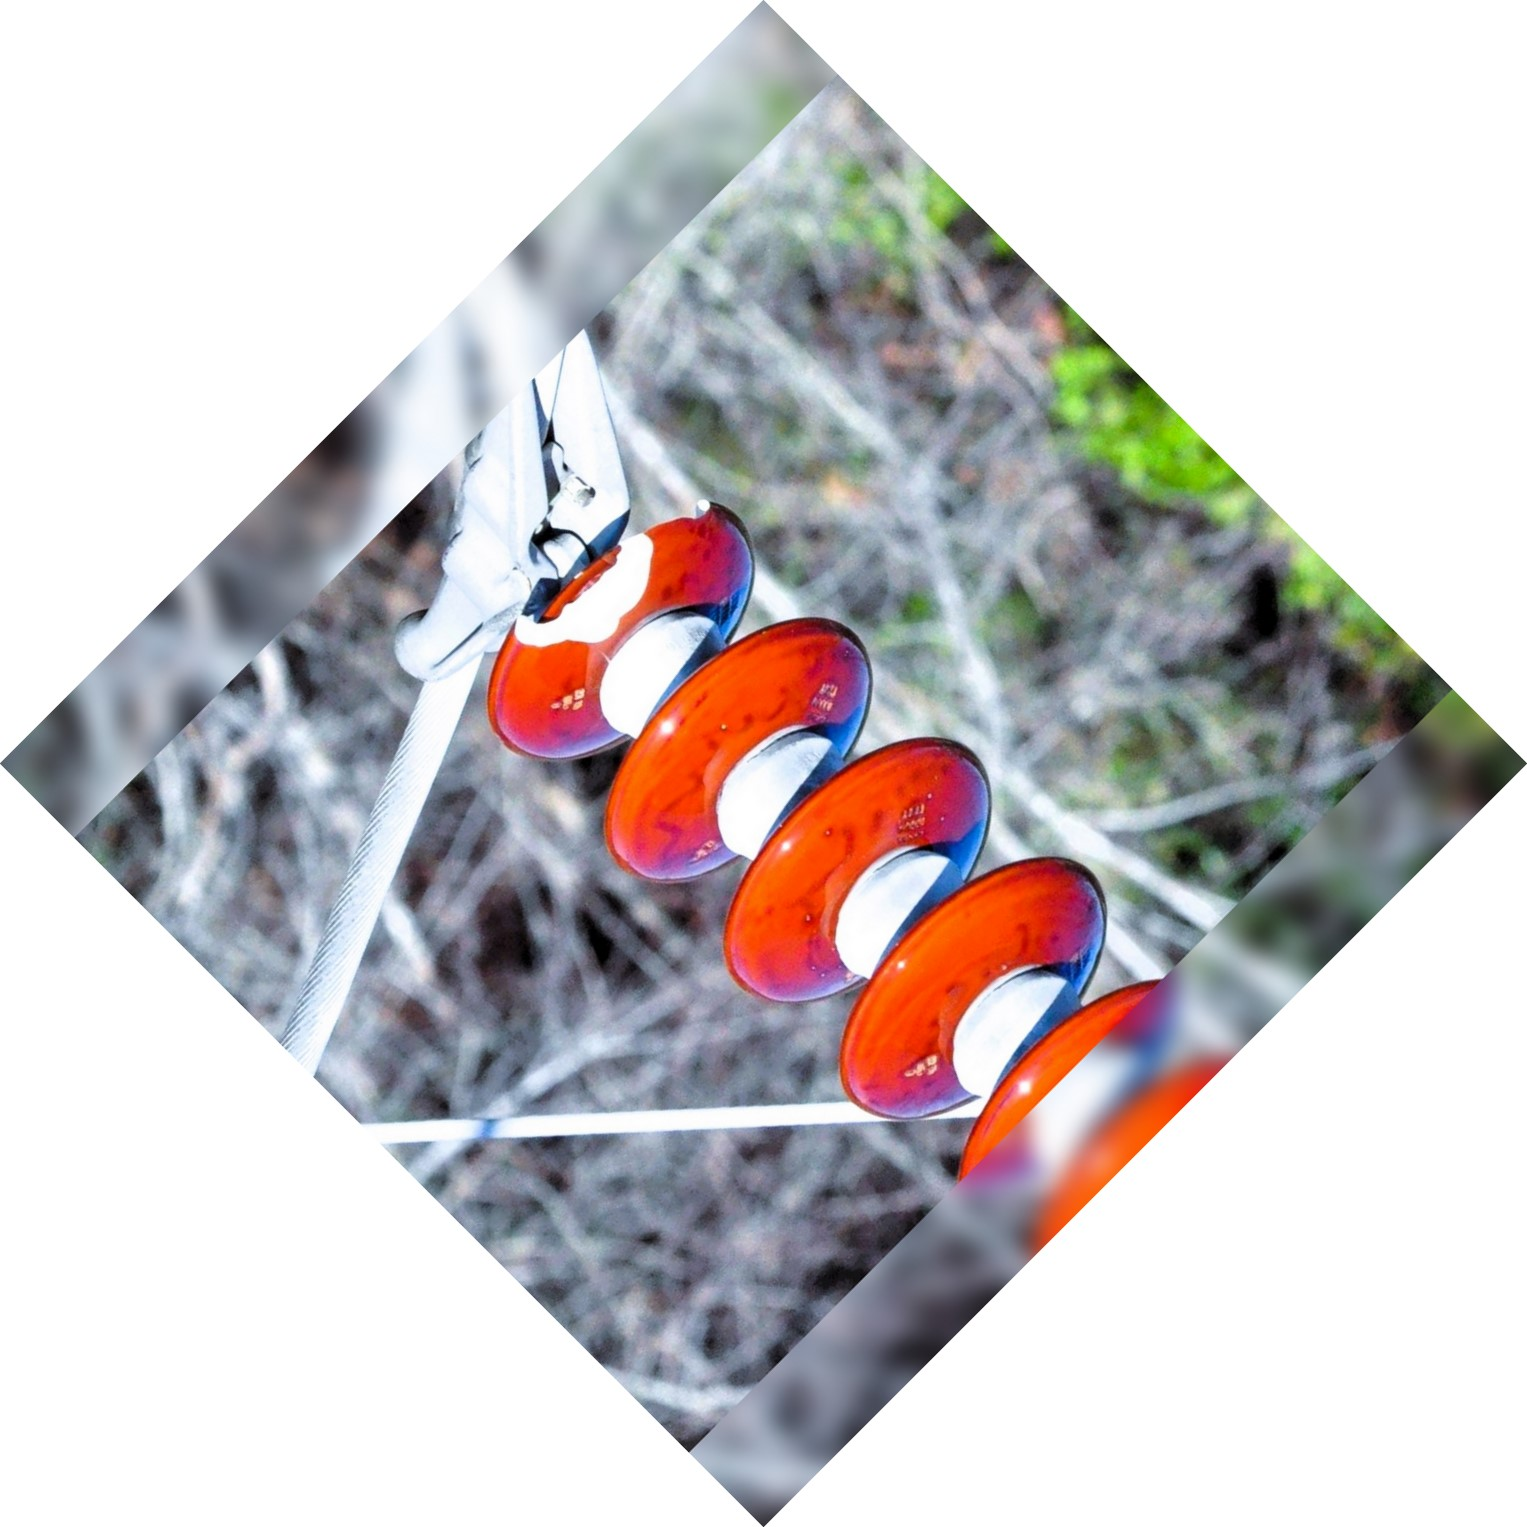insulator breakage: (459, 489, 798, 787)
